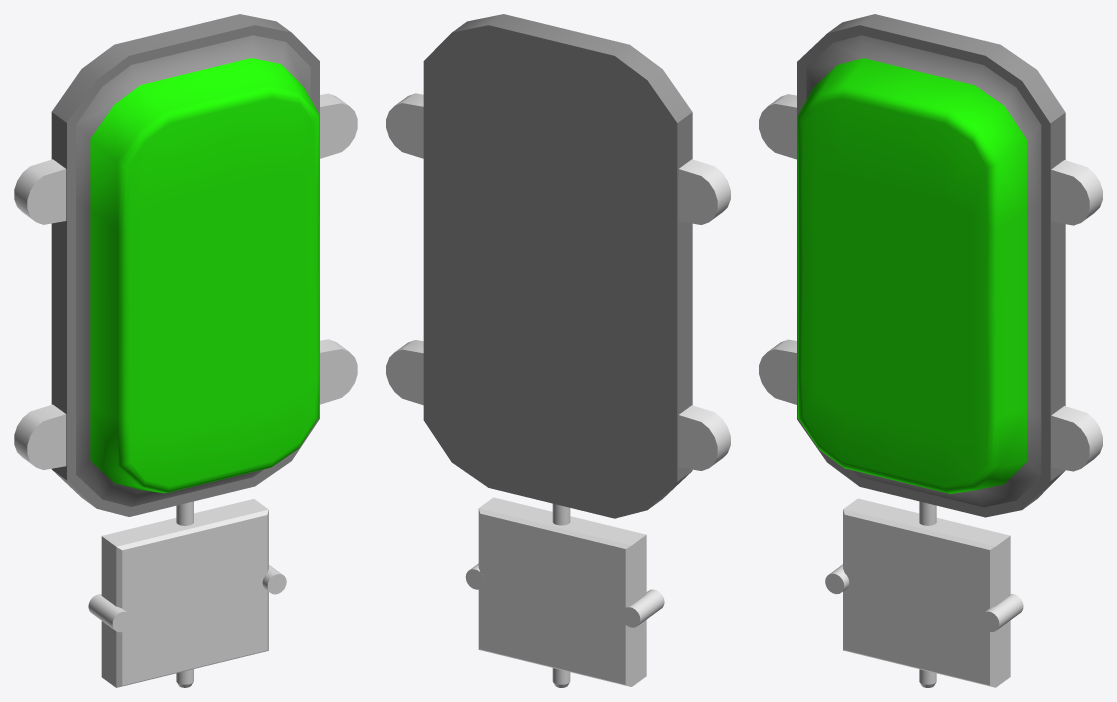
Rendered from light_02.FBX.
3 renders of one model, left to right at view 1: azimuth 30°, elevation 25°; view 2: azimuth 150°, elevation 25°; view 3: azimuth 330°, elevation 25°, orthographic.
Parts seen in each view (by area): view 1: Box006, Box007, Cylinder009, Cylinder010, Cylinder007, Cylinder008, Cylinder005, Cylinder004; view 2: Box006, Box007, Cylinder010, Cylinder009, Cylinder007, Cylinder008, Cylinder005, Cylinder004; view 3: Box006, Box007, Cylinder007, Cylinder008, Cylinder009, Cylinder010, Cylinder011, Cylinder004.
Boxes of the visible parts, x1,y1,x2,y2 form: Box006: [51, 14, 319, 516]; Box007: [101, 499, 268, 687]; Cylinder009: [14, 159, 66, 224]; Cylinder010: [14, 404, 66, 469]; Cylinder007: [320, 93, 357, 158]; Cylinder008: [320, 339, 357, 404]; Cylinder005: [88, 594, 131, 632]; Cylinder004: [176, 501, 193, 687]; Box006: [423, 14, 692, 518]; Box007: [478, 497, 646, 686]; Cylinder010: [678, 405, 730, 470]; Cylinder009: [678, 159, 730, 224]; Cylinder007: [386, 93, 423, 158]; Cylinder008: [386, 340, 423, 405]; Cylinder005: [621, 589, 664, 627]; Cylinder004: [552, 503, 570, 687]; Box006: [797, 14, 1065, 517]; Box007: [843, 498, 1010, 687]; Cylinder007: [1051, 160, 1102, 225]; Cylinder008: [1051, 406, 1102, 471]; Cylinder009: [759, 94, 796, 159]; Cylinder010: [759, 339, 796, 404]; Cylinder011: [980, 594, 1023, 631]; Cylinder004: [919, 501, 936, 687].
Bounding box in the file's own units: 121 × 228 × 27.99.
